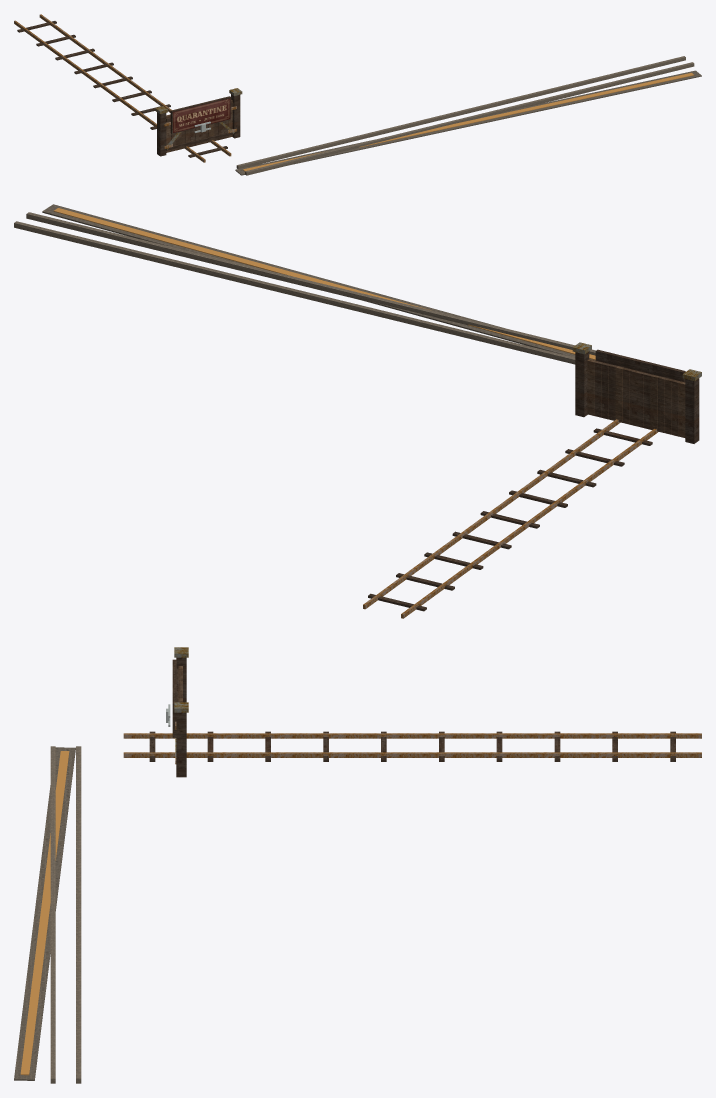
File: mj_spur_gate.glb
The picture shows the model from 3 angles, top to bottom: view 1: azimuth 30°, elevation 25°; view 2: azimuth 150°, elevation 25°; view 3: azimuth 270°, elevation 25°; orthographic projection. The views are drawn at different scales.
Parts seen in each view (by area): view 1: DrainBankL, DrainBankR, DrainBed, YellowBoyDrain, QuarantineBoard, RailL, RailR, GatePost-2.25, GatePost2.25, Notice backing; view 2: DrainBankL, DrainBankR, DrainBed, YellowBoyDrain, RailL, RailR, Notice backing, GatePost-2.25, GatePost2.25; view 3: DrainBed, RailR, RailL, YellowBoyDrain, DrainBankL, DrainBankR, GatePost2.25.
Boxes of the visible parts, x1,y1,x2,y2 form: DrainBankL: (236, 56, 685, 168); DrainBankR: (245, 62, 694, 175); DrainBed: (235, 70, 701, 175); YellowBoyDrain: (243, 73, 693, 171); QuarantineBoard: (173, 98, 230, 132); RailL: (14, 20, 205, 162); RailR: (39, 14, 231, 156); GatePost-2.25: (157, 112, 166, 156); GatePost2.25: (231, 94, 240, 138); Notice backing: (170, 96, 231, 133); DrainBankL: (14, 221, 575, 364); DrainBankR: (26, 212, 595, 355); DrainBed: (42, 204, 594, 360); YellowBoyDrain: (53, 208, 595, 360); RailL: (401, 428, 658, 618); RailR: (363, 419, 620, 609); Notice backing: (595, 349, 685, 382); GatePost-2.25: (685, 378, 699, 443); GatePost2.25: (575, 351, 589, 417); DrainBed: (14, 747, 75, 1080); RailR: (123, 752, 701, 757); RailL: (123, 733, 701, 738); YellowBoyDrain: (20, 751, 69, 1075); DrainBankL: (76, 746, 81, 1083); DrainBankR: (50, 746, 55, 1083); GatePost2.25: (176, 712, 186, 777).
Bounding box in the file's own units: 30 × 2.67 × 23.79.
Materials: 10 (8 with a texture image).
